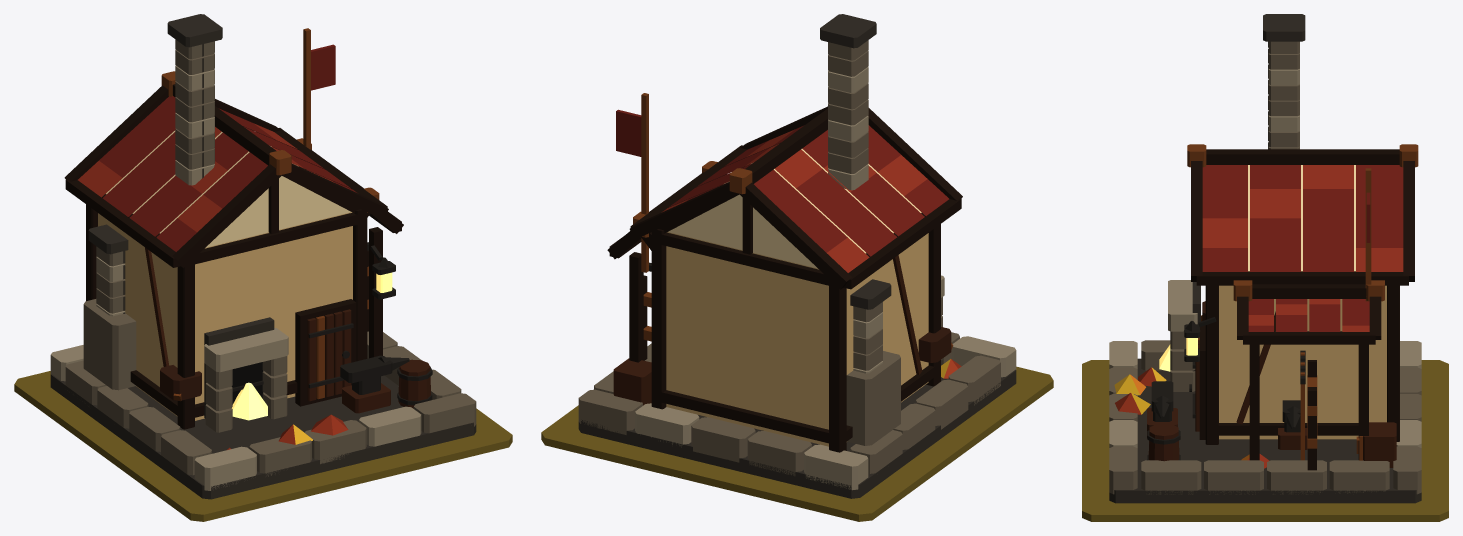
Rendered from forge_t6.glb.
The picture shows the model from 3 angles, left to right: view 1: azimuth 30°, elevation 25°; view 2: azimuth 150°, elevation 25°; view 3: azimuth 270°, elevation 25°; orthographic projection. The views are drawn at different scales.
Parts seen in each view (by area): view 1: MMR | forge | T06 Architecture.001, MMR | forge | Tier 06 Ground.001, MMR | forge | T06 Flame Glow.001, MMR | forge | T06 Banner Flag 1.001, MMR | forge | T06 Autumn Dressing.001; view 2: MMR | forge | T06 Architecture.001, MMR | forge | Tier 06 Ground.001, MMR | forge | T06 Banner Flag 1.001; view 3: MMR | forge | T06 Architecture.001, MMR | forge | Tier 06 Ground.001, MMR | forge | T06 Autumn Dressing.001, MMR | forge | T06 Flame Glow.001.
Boxes of the visible parts, x1,y1,x2,y2 form: MMR | forge | T06 Architecture.001: (50,14,476,499); MMR | forge | Tier 06 Ground.001: (14,371,512,521); MMR | forge | T06 Flame Glow.001: (232,272,392,420); MMR | forge | T06 Banner Flag 1.001: (311,44,335,90); MMR | forge | T06 Autumn Dressing.001: (227,414,348,449); MMR | forge | T06 Architecture.001: (578,14,1016,498); MMR | forge | Tier 06 Ground.001: (541,366,1053,521); MMR | forge | T06 Banner Flag 1.001: (616,109,641,156); MMR | forge | T06 Architecture.001: (1109,14,1421,503); MMR | forge | Tier 06 Ground.001: (1082,360,1448,521); MMR | forge | T06 Autumn Dressing.001: (1114,367,1269,468); MMR | forge | T06 Flame Glow.001: (1159,338,1197,371).
Bounding box in the file's own units: 2.35 × 2.78 × 2.35.
Materials: 2 (1 with a texture image).
